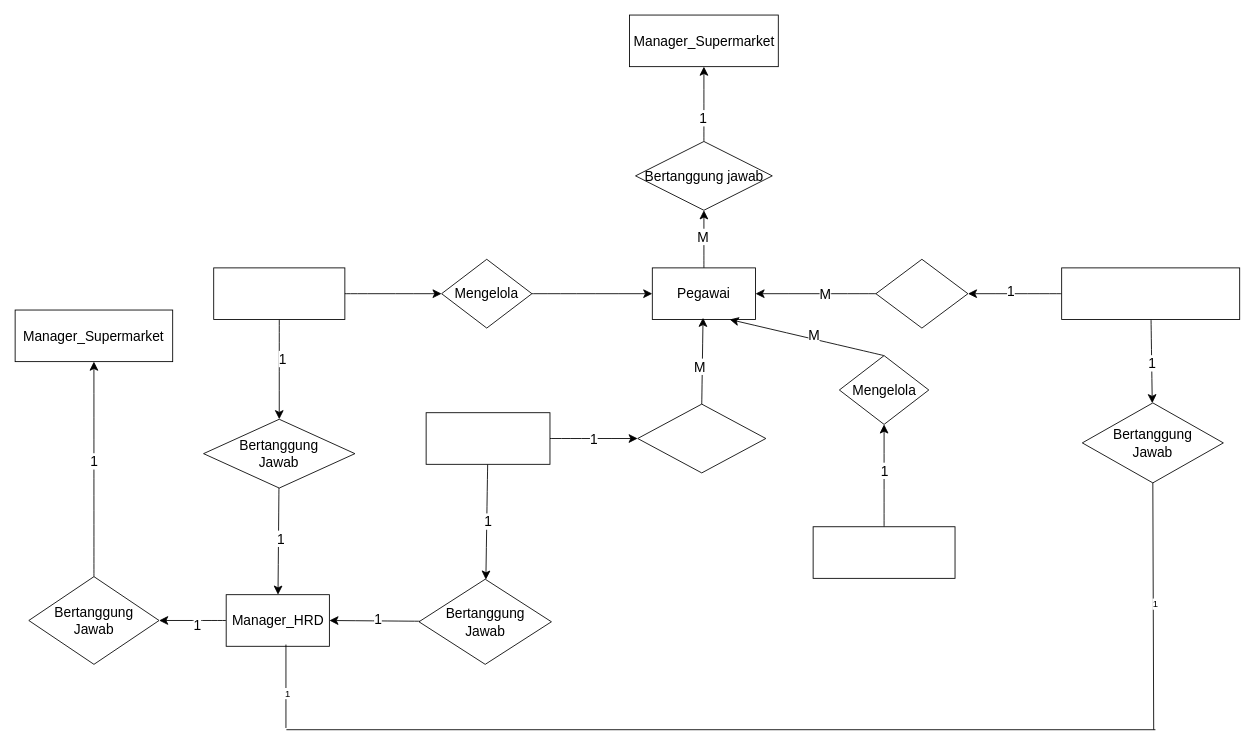
Some shapes in this 1255 by 746 pixel diagram are drawn without their labels. Each missing label, with the box of its shape:
Bagian_Departemen: (812, 526, 955, 578)
Bagian_Pelatihan: (425, 412, 550, 464)
Bagian_Pengontrol_Kinerja: (1061, 267, 1240, 319)
Bagian_Personalia: (213, 267, 345, 319)
Memberikan Pelatihan: (637, 403, 766, 473)
Mengontrol: (875, 258, 968, 328)
